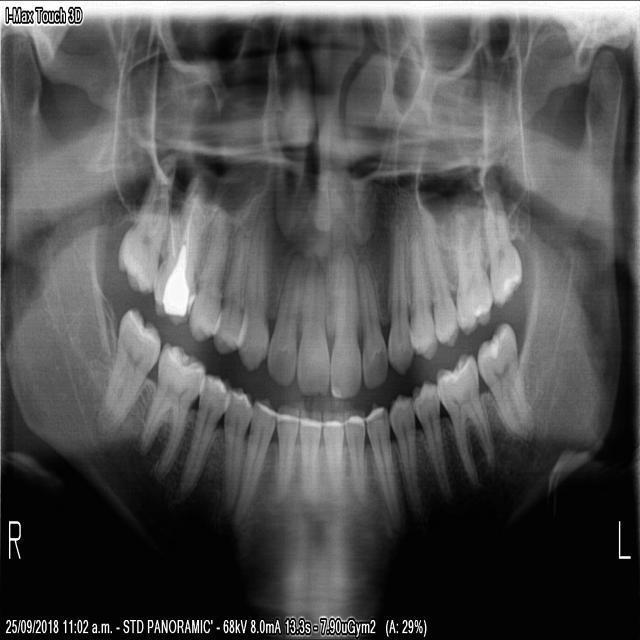LCD: (364, 402, 399, 531)
LCU: (384, 220, 413, 374)
LID: (342, 407, 365, 506), (321, 409, 343, 502)
LIU: (329, 250, 361, 397), (357, 258, 387, 388)
LMD: (435, 350, 494, 490), (476, 320, 534, 443)
LMU: (451, 207, 493, 336), (482, 188, 522, 307)
LPMU: (407, 222, 436, 360), (425, 219, 457, 344)
RCD: (231, 395, 276, 527)
RCU: (234, 192, 268, 371)
RID: (272, 401, 297, 505), (297, 407, 321, 506)
RIU: (264, 252, 303, 386), (293, 257, 329, 396)
RMD: (137, 338, 204, 482), (93, 305, 160, 435)
RMU: (115, 150, 177, 293), (150, 173, 204, 326)
RPMD: (175, 370, 231, 500), (411, 376, 451, 501), (387, 392, 420, 515), (221, 384, 250, 512)
RPMU: (186, 199, 225, 341), (211, 213, 243, 355)
